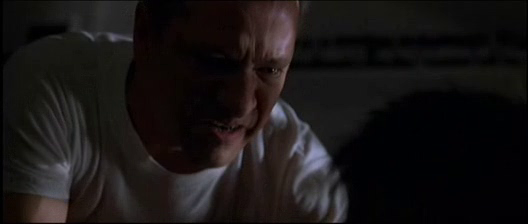cu: (1, 1, 528, 224)
face: (173, 24, 295, 167)
person: (1, 1, 349, 224)
